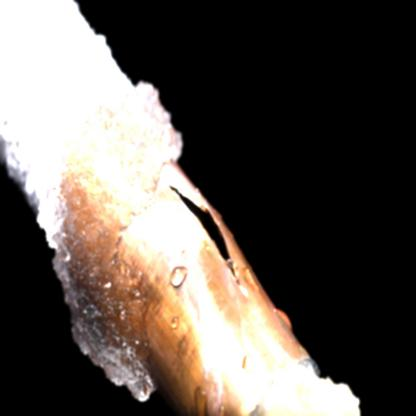burst: (163, 177, 268, 283)
